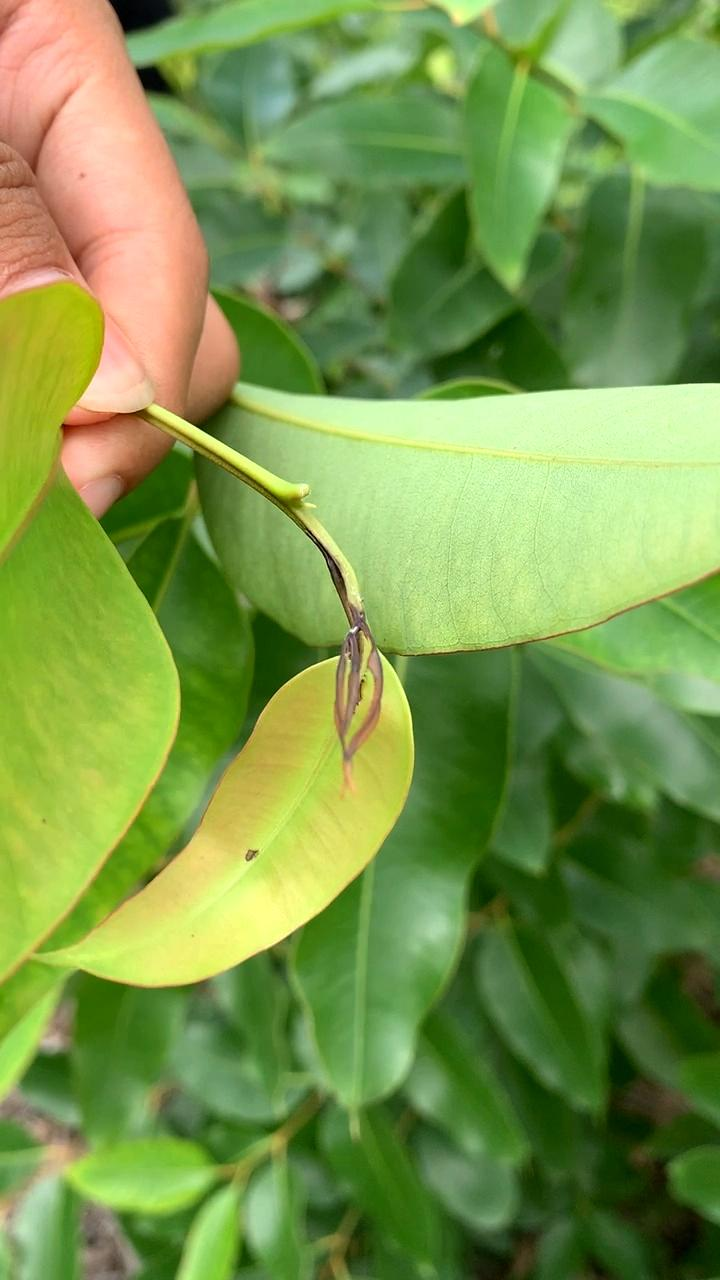Helopeltis-Withered Sprout: (330, 591, 391, 799)
